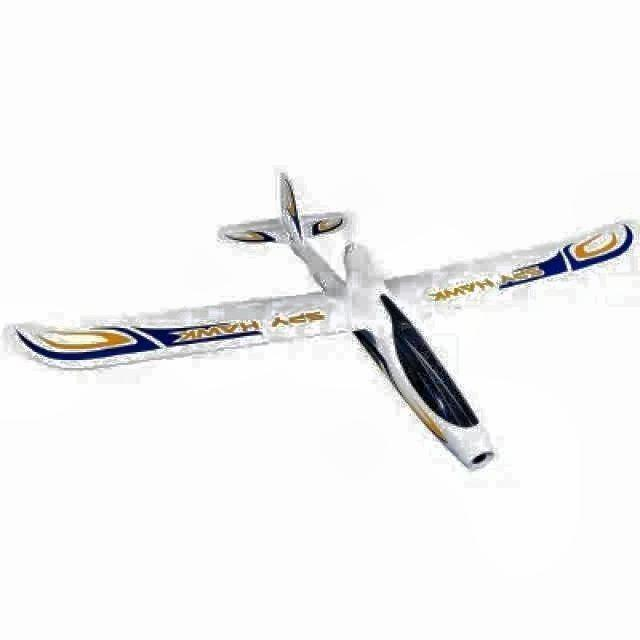iha: (15, 159, 633, 480)
